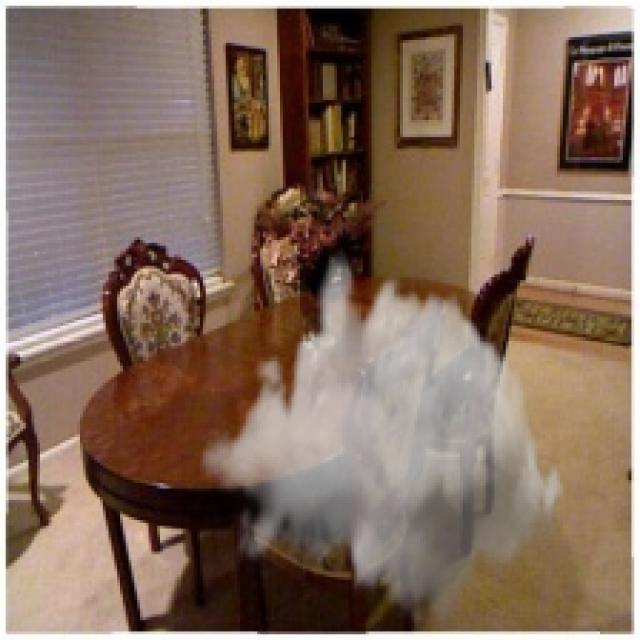smoke: (200, 252, 569, 634)
